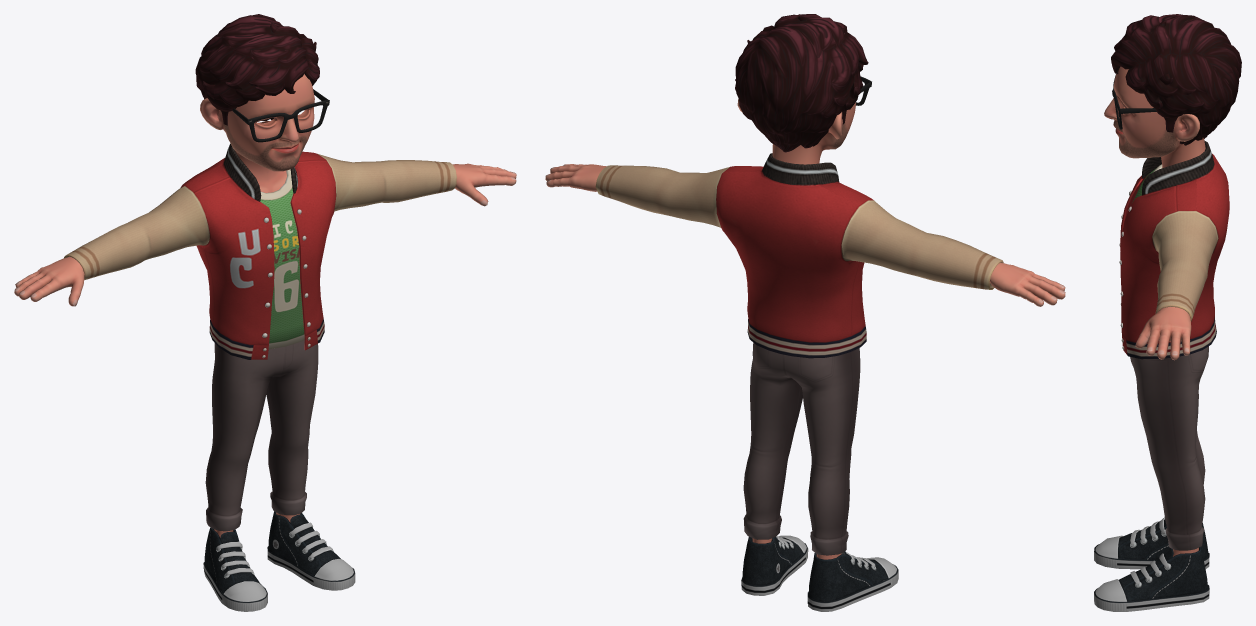
The model's file is MaleLODA_Rig_V09.gltf.
The picture shows the model from 3 angles, left to right: view 1: azimuth 30°, elevation 25°; view 2: azimuth 150°, elevation 25°; view 3: azimuth 270°, elevation 25°; orthographic projection. The views are drawn at different scales.
Visible parts, largest first — view 1: JacketTest_Jacket, TrouserTest_Trouser, Basebody_Geo, HairTest, TShirtTest_Tshirt, ShoesTest_Shoes_L, ShoesTest_Shoes_R, SpecsTest_Specs; view 2: JacketTest_Jacket, TrouserTest_Trouser, HairTest, Basebody_Geo, ShoesTest_Shoes_R, ShoesTest_Shoes_L; view 3: JacketTest_Jacket, HairTest, TrouserTest_Trouser, Basebody_Geo, ShoesTest_Shoes_L, ShoesTest_Shoes_R, SpecsTest_Specs.
Part boxes in pixels (x1,y1,x2,y2): JacketTest_Jacket: [64, 143, 456, 359]; TrouserTest_Trouser: [205, 340, 318, 531]; Basebody_Geo: [14, 74, 516, 537]; HairTest: [195, 14, 319, 125]; TShirtTest_Tshirt: [260, 169, 304, 349]; ShoesTest_Shoes_L: [267, 511, 355, 590]; ShoesTest_Shoes_R: [203, 527, 267, 611]; SpecsTest_Specs: [232, 89, 329, 142]; JacketTest_Jacket: [595, 153, 1003, 358]; TrouserTest_Trouser: [743, 343, 860, 555]; HairTest: [735, 14, 868, 152]; Basebody_Geo: [545, 99, 1065, 559]; ShoesTest_Shoes_R: [807, 551, 898, 611]; ShoesTest_Shoes_L: [741, 535, 808, 595]; JacketTest_Jacket: [1119, 140, 1229, 359]; HairTest: [1111, 14, 1241, 145]; TrouserTest_Trouser: [1130, 346, 1208, 550]; Basebody_Geo: [1104, 66, 1205, 556]; ShoesTest_Shoes_L: [1094, 547, 1209, 611]; ShoesTest_Shoes_R: [1094, 517, 1209, 569]; SpecsTest_Specs: [1112, 74, 1156, 129].
Size of what is drawn, in the model's own units: 1.69 by 1.8 by 0.427.
8 materials, 8 textured.
